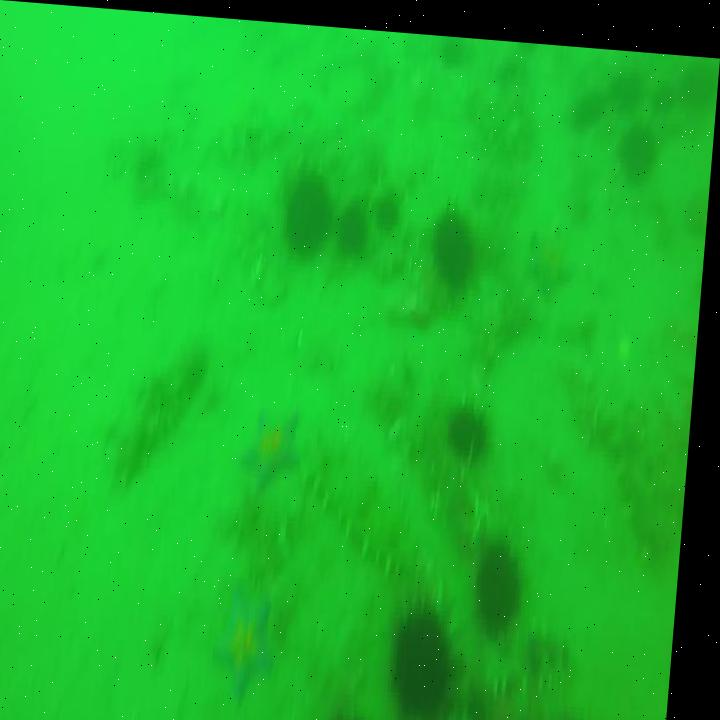echinus: (401, 590, 471, 715), (483, 531, 535, 625), (433, 196, 482, 284), (288, 163, 333, 258), (622, 109, 664, 178), (459, 388, 497, 451), (568, 76, 610, 128), (342, 184, 374, 252), (339, 700, 382, 720), (557, 711, 623, 720)
holothurian: (107, 338, 224, 482), (299, 446, 436, 565), (485, 612, 592, 693)
starfish: (220, 579, 292, 698), (245, 396, 312, 489)
